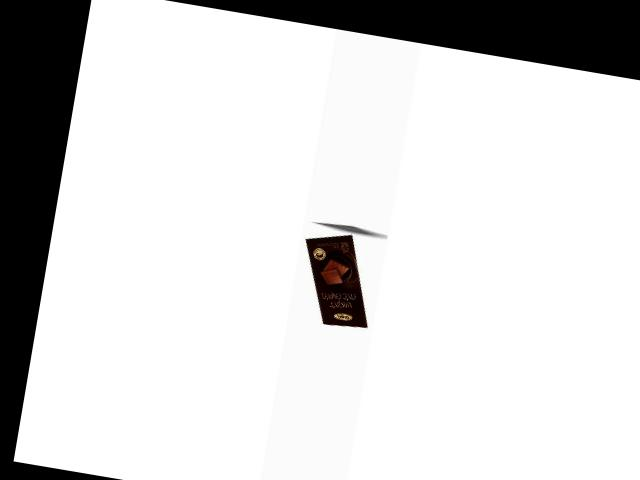chocolate: (289, 223, 383, 333)
